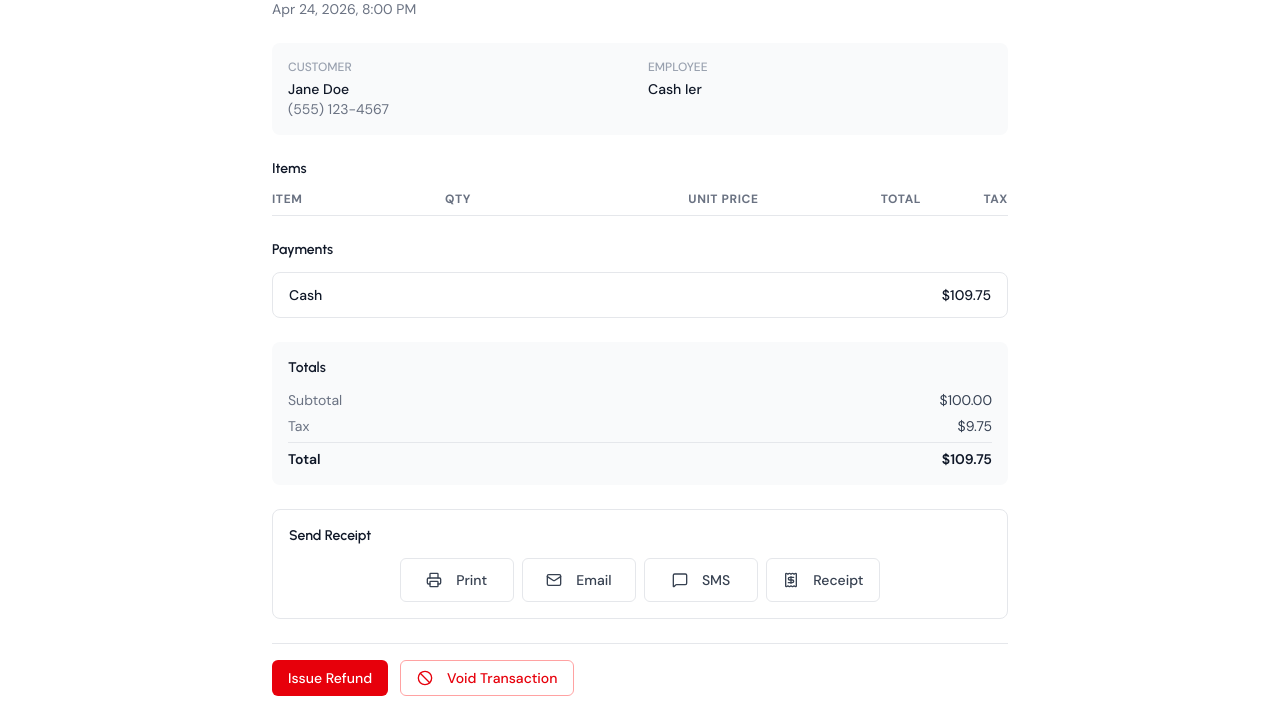
Test: TransactionDetail — void confirmation dialog language › shows cascade language when an active linked job exists
(page scrolled)
Click the button "Void Transaction" at [487, 678], box [400,660,574,696]
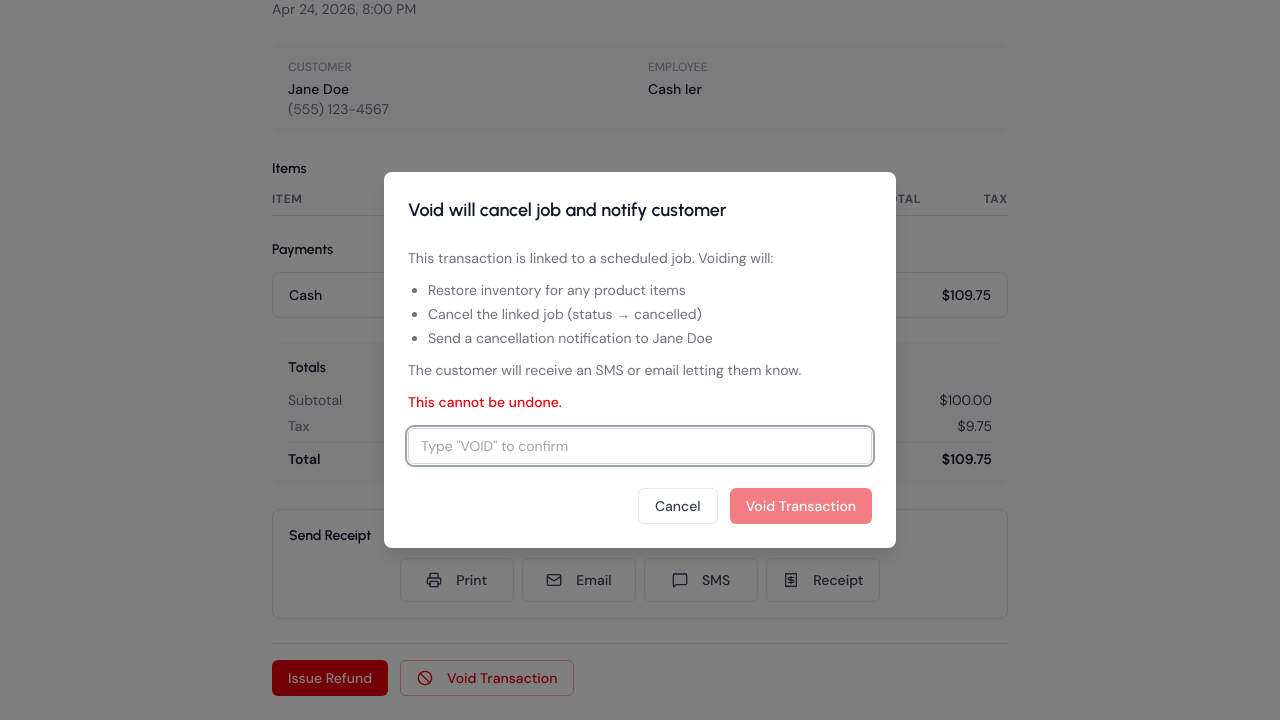
Result: the list item "Cancel the linked job (status → cancelled)" is shown at [428,305,702,323]
Result: the list item "Send a cancellation notification to Jane Doe" is shown at [428,329,713,347]
Result: the text "The customer will receive an SMS or email letting them know." is shown at [408,361,801,379]
